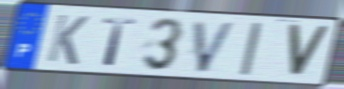3: (136, 16, 188, 73)
I: (238, 21, 265, 77)
K: (44, 12, 91, 67)
T: (101, 16, 139, 68)
V: (191, 19, 239, 75), (286, 22, 332, 80)
